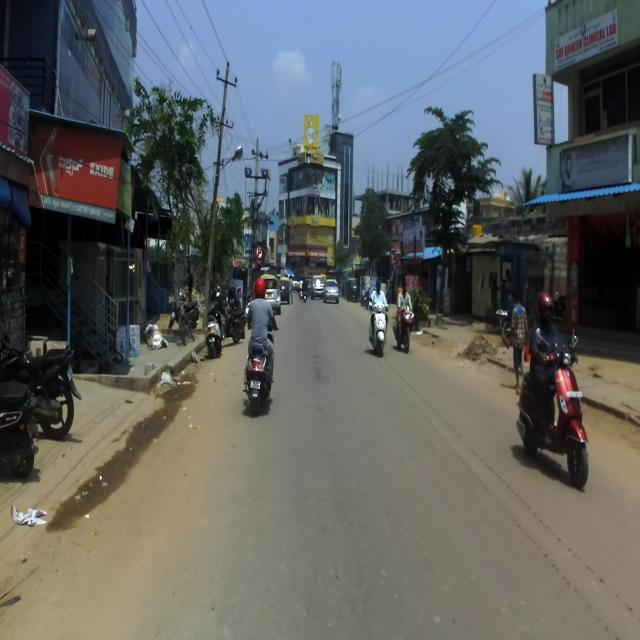motorcycle ahead at: (516, 333, 592, 494), (0, 342, 79, 470), (243, 334, 281, 412), (363, 274, 389, 358), (204, 291, 223, 359)
